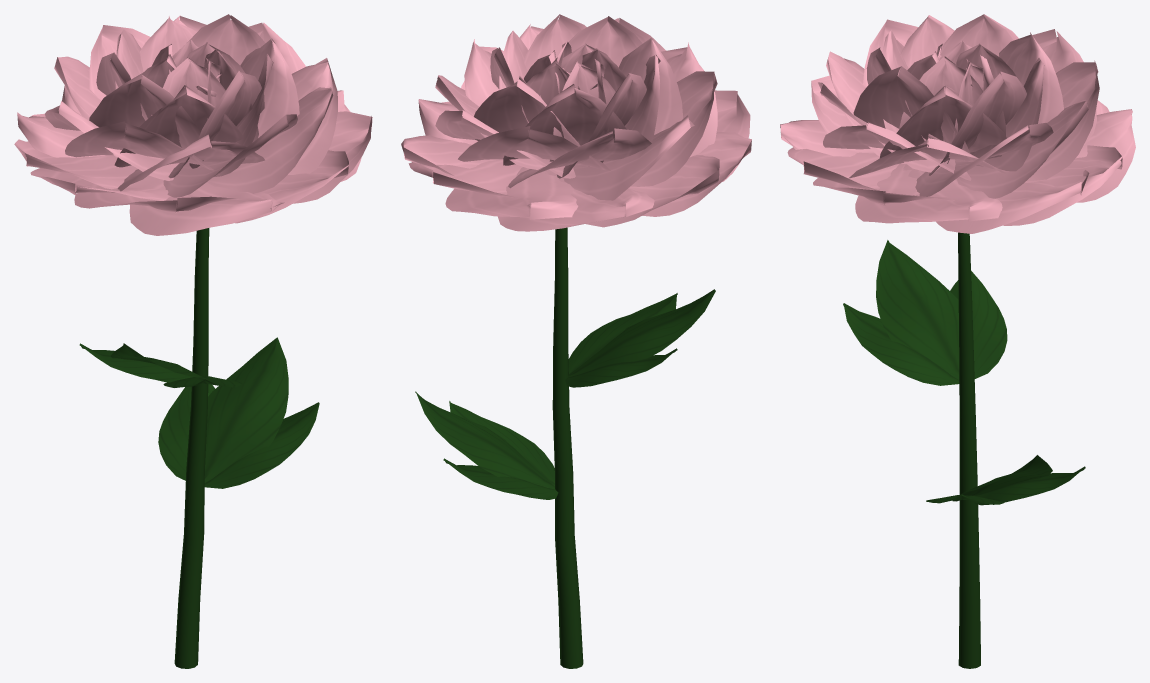
File: pink_peony.glb
3 renders of one model, left to right at view 1: azimuth 30°, elevation 25°; view 2: azimuth 150°, elevation 25°; view 3: azimuth 270°, elevation 25°, orthographic.
Parts seen in each view (by area): view 1: Pink_Peony; view 2: Pink_Peony; view 3: Pink_Peony.
Boxes of the visible parts, x1,y1,x2,y2 form: Pink_Peony: (14, 14, 372, 668); Pink_Peony: (401, 14, 751, 668); Pink_Peony: (780, 14, 1135, 668).
Bounding box in the file's own units: 0.1259 × 0.241 × 0.1253.
Materials: 2 (2 with a texture image).
